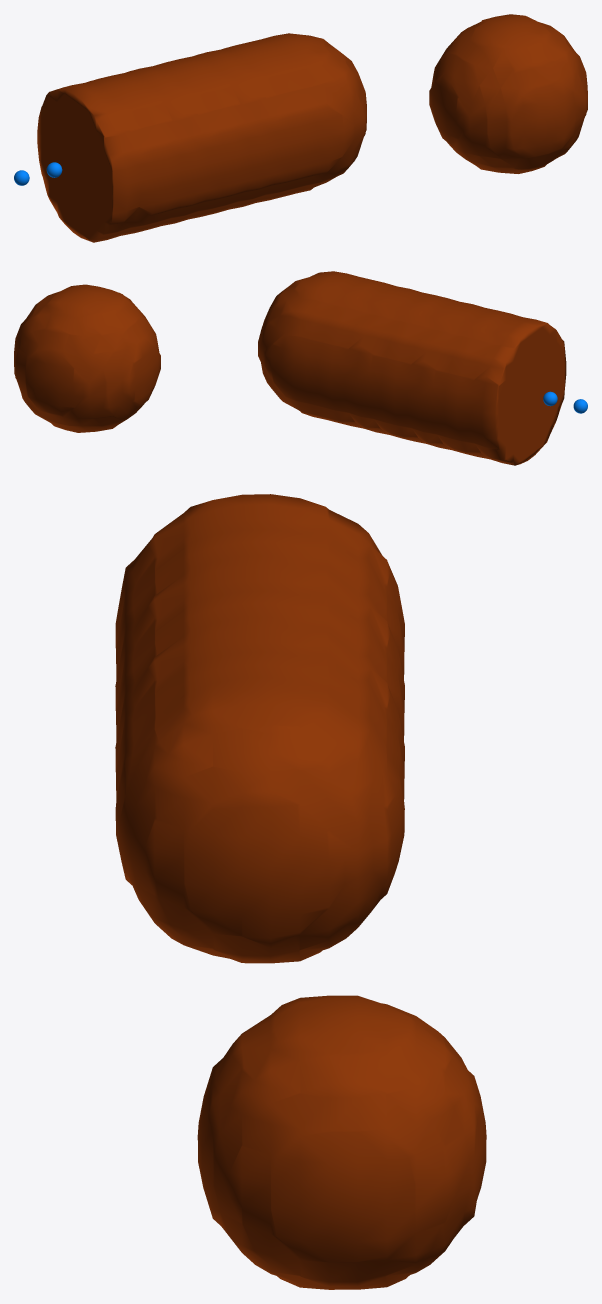
3 views of the same model, one above another, from view 1: azimuth 30°, elevation 25°; view 2: azimuth 150°, elevation 25°; view 3: azimuth 270°, elevation 25° (orthographic). The views are drawn at different scales.
Parts seen in each view (by area): view 1: MarchingCubes; view 2: MarchingCubes; view 3: MarchingCubes.
Boxes of the visible parts, x1,y1,x2,y2 form: MarchingCubes: (37, 14, 587, 242); MarchingCubes: (14, 271, 566, 465); MarchingCubes: (115, 494, 486, 1289).
Size of the model in its own units: 4310 by 1401 by 1277.
